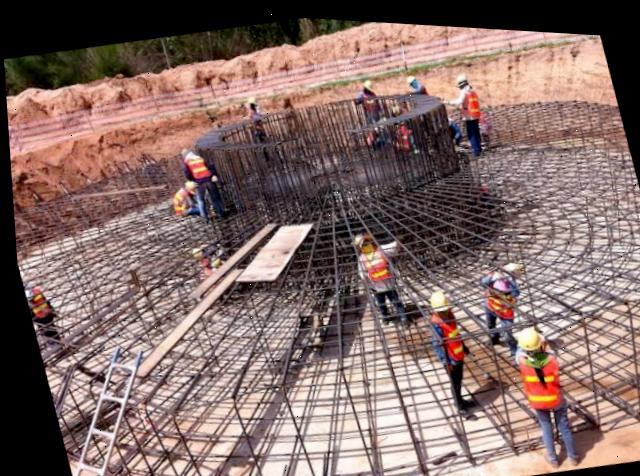helmet: (508, 317, 541, 345), (422, 283, 449, 306), (344, 223, 369, 244), (448, 64, 470, 85), (497, 256, 517, 271), (399, 69, 417, 83), (357, 73, 374, 86), (205, 249, 218, 266), (185, 245, 200, 258), (177, 177, 191, 188), (176, 142, 188, 154), (18, 286, 27, 300), (243, 93, 255, 103)
vest: (508, 342, 560, 405), (423, 305, 462, 359), (350, 239, 388, 280), (477, 282, 513, 317), (452, 85, 483, 117), (165, 188, 187, 216), (181, 148, 202, 177), (24, 297, 46, 323), (390, 119, 411, 144), (240, 107, 256, 132), (358, 90, 376, 110), (27, 288, 36, 299)
